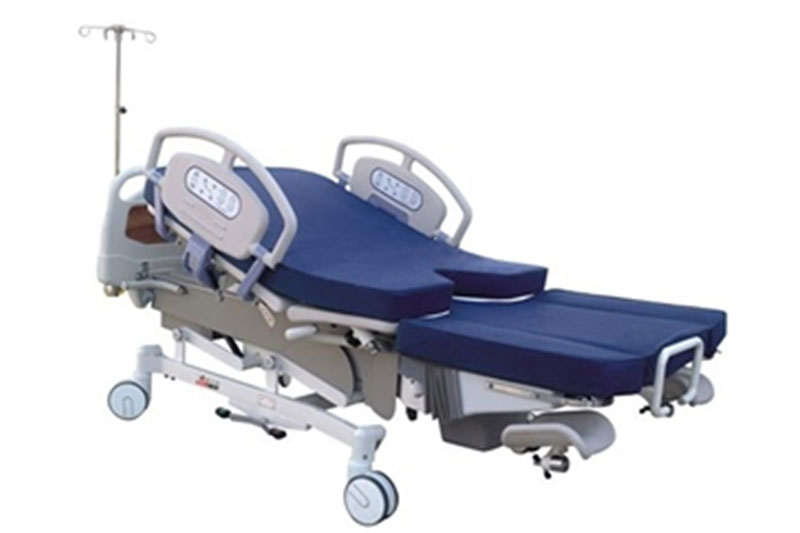trolley_bed: (75, 20, 733, 530)
